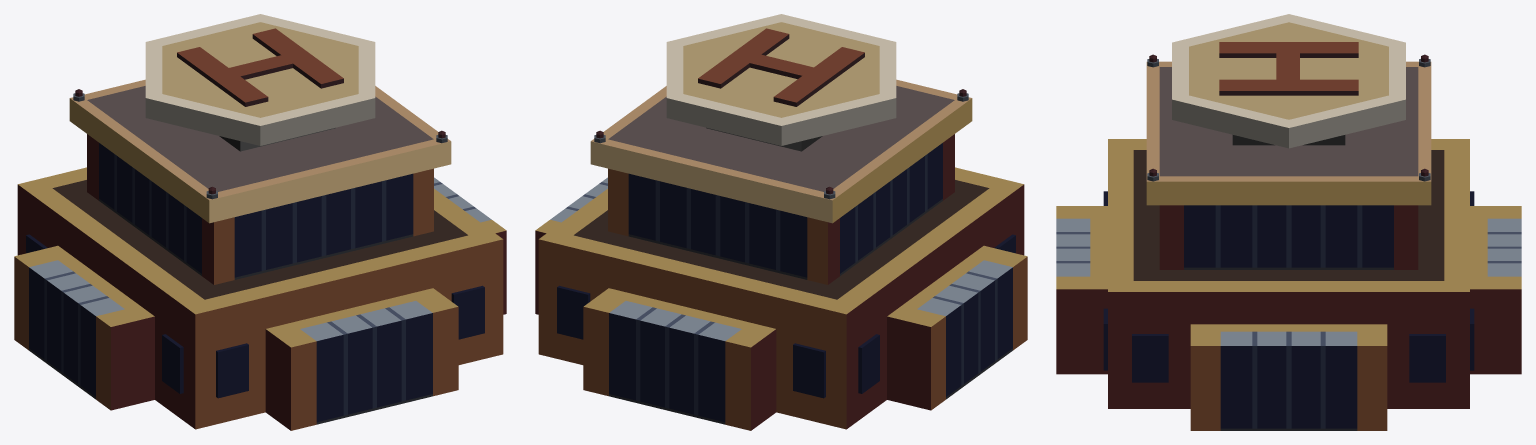
Rendered from TB_CITY_Skysc_F_Top_Brown.FBX.
3 views of the same model, side by side, from view 1: azimuth 30°, elevation 25°; view 2: azimuth 150°, elevation 25°; view 3: azimuth 270°, elevation 25° (orthographic).
Parts seen in each view (by area): view 1: TB_CITY_Skysc_F_Top_Brown; view 2: TB_CITY_Skysc_F_Top_Brown; view 3: TB_CITY_Skysc_F_Top_Brown.
Part boxes in pixels (x1,y1,x2,y2): TB_CITY_Skysc_F_Top_Brown: (14,14,506,430); TB_CITY_Skysc_F_Top_Brown: (535,14,1027,430); TB_CITY_Skysc_F_Top_Brown: (1056,14,1521,430).
Size of the model in its own units: 18 by 11.35 by 18.
